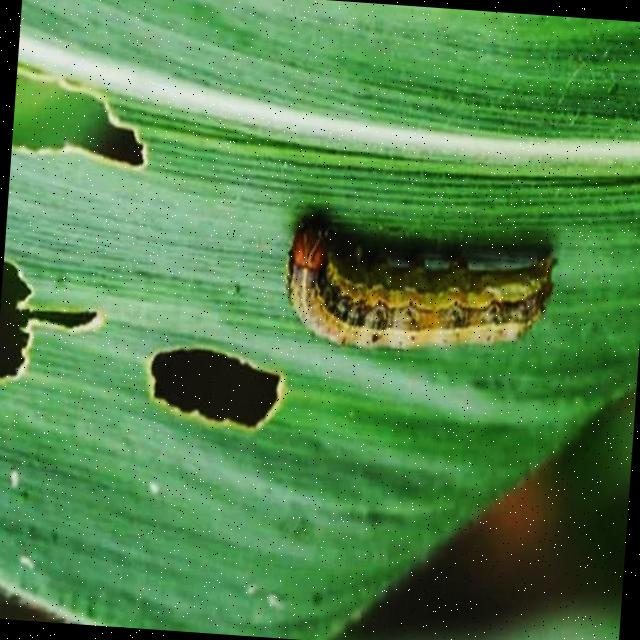worm: (279, 215, 561, 366)
